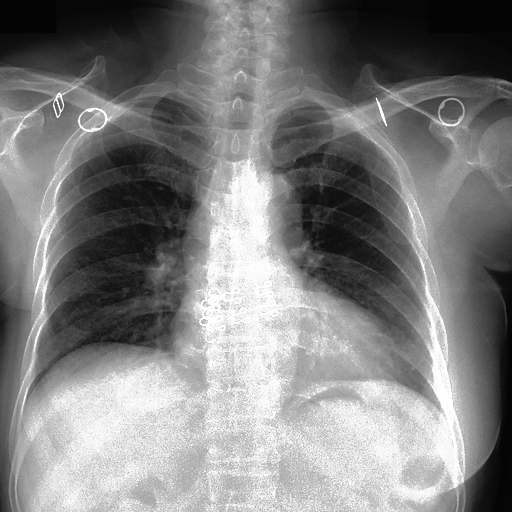Consolidation: (242, 169, 302, 229)
Nodule/Mass: (167, 303, 405, 386)
